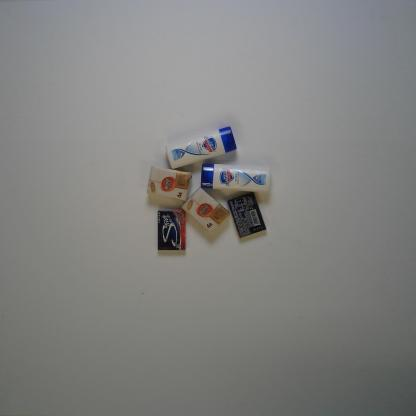Gum: (227, 192, 266, 237), (157, 210, 186, 250)
Personal Hygiene: (165, 126, 237, 169), (200, 163, 272, 193)
Tissue: (181, 186, 230, 233), (146, 165, 192, 202)
